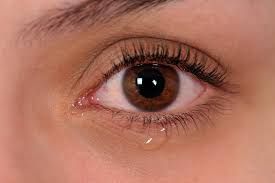pupil: (123, 63, 178, 111)
